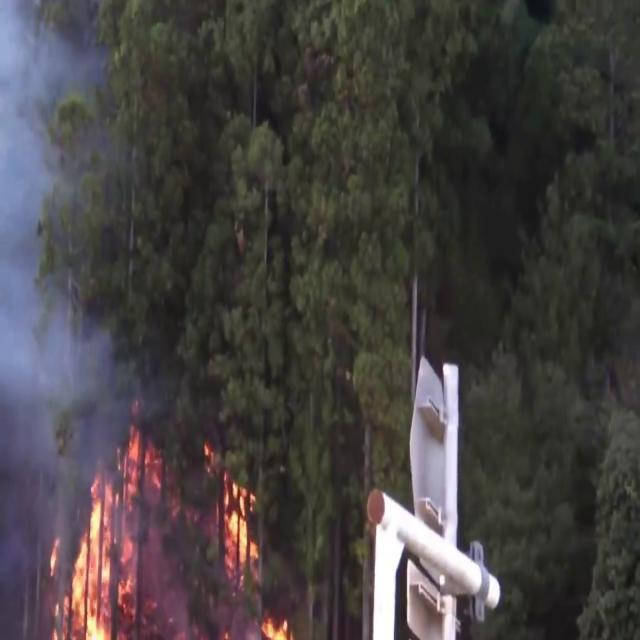Fire: (40, 453, 151, 639), (208, 468, 292, 640)
Smoke: (0, 0, 118, 561)
